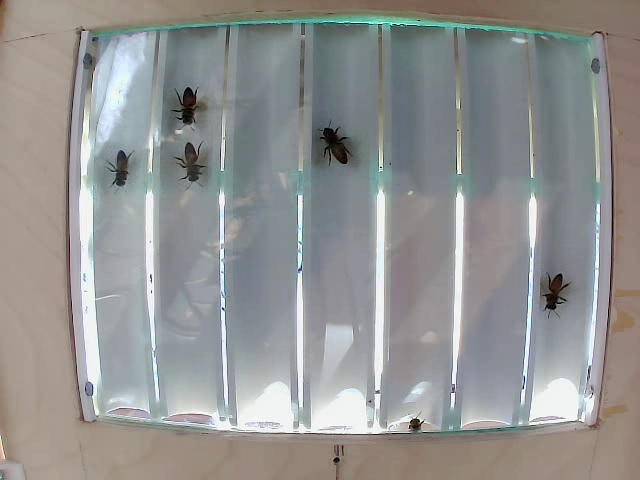bee: (312, 111, 357, 179), (169, 144, 219, 204), (102, 145, 142, 197), (168, 84, 212, 130), (536, 268, 565, 325)
